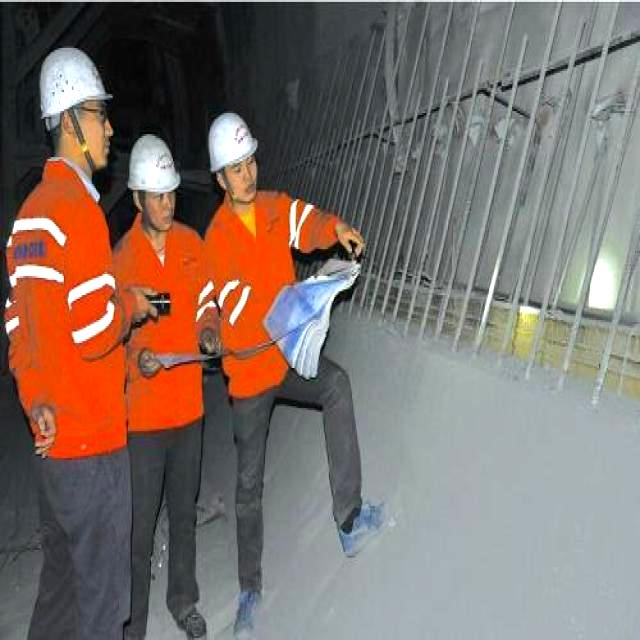hard_hat: (40, 48, 111, 126), (127, 134, 179, 192), (207, 113, 256, 171)
person: (205, 113, 383, 634), (10, 48, 129, 638), (118, 136, 205, 638)
